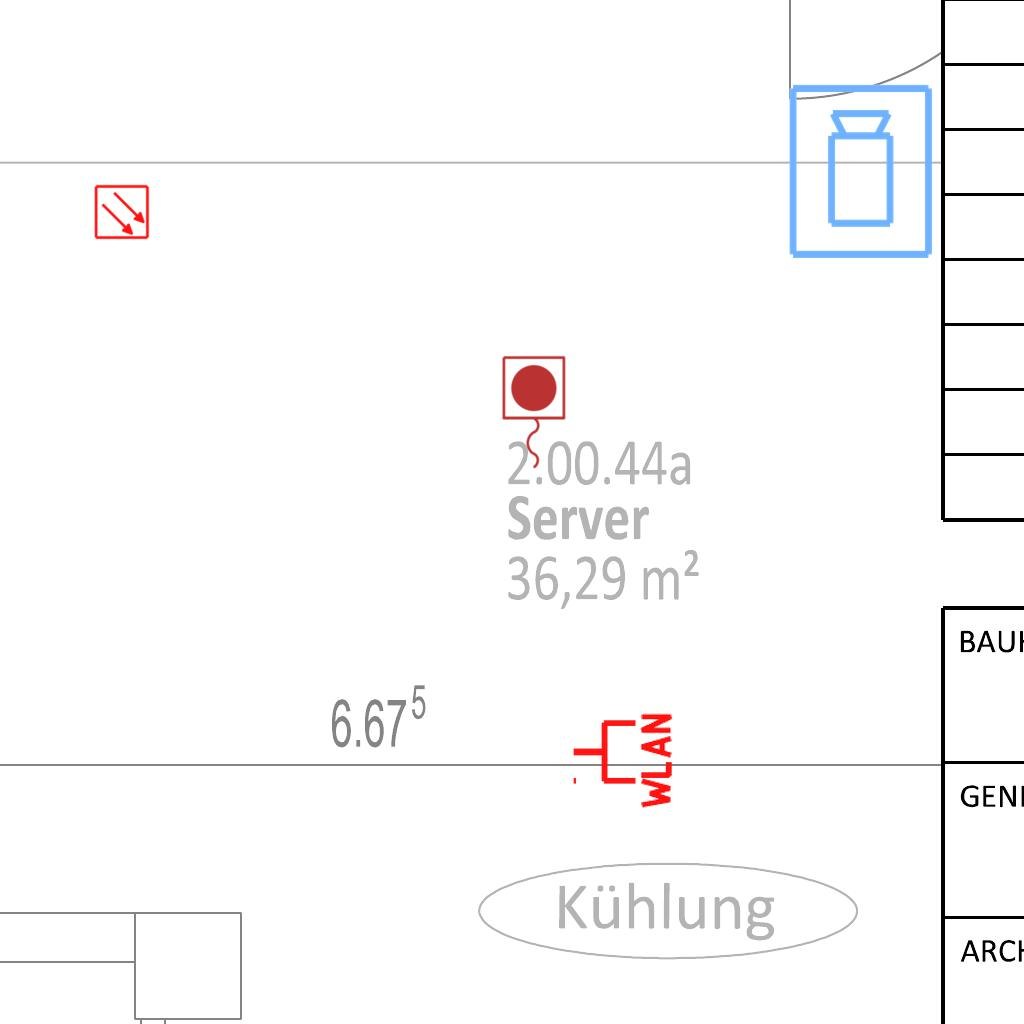KFO_Kamera_mit_Festobjektiv: (785, 81, 939, 263)
RMO_Rauchmelder_optischer: (94, 184, 150, 240)
WLAN: (569, 709, 674, 813)
Zugtaster: (497, 352, 569, 474)
